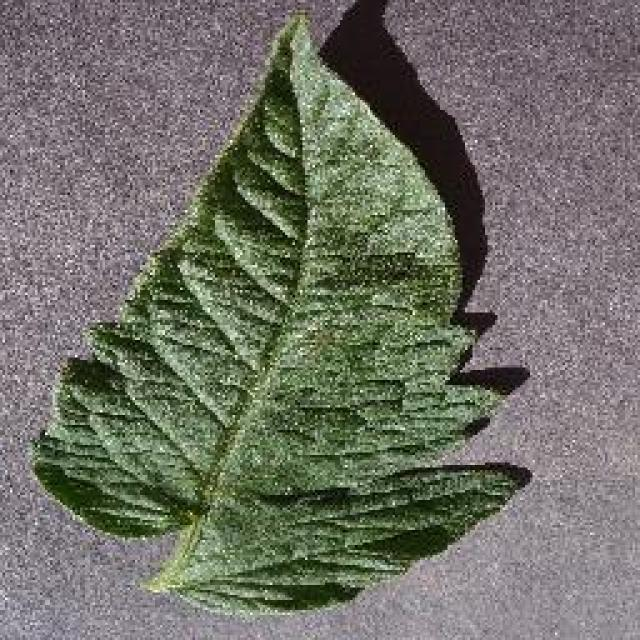Tomato_Healthy: (29, 23, 535, 602)
